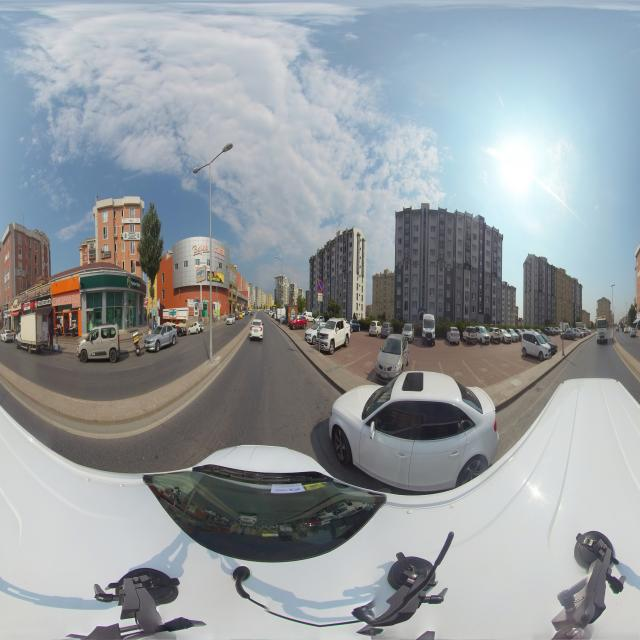SignStore: (53, 292, 79, 304), (127, 276, 142, 291), (35, 296, 51, 309), (123, 232, 137, 240), (101, 251, 111, 258), (24, 301, 30, 311), (8, 309, 12, 316), (4, 310, 8, 317), (14, 303, 18, 309), (4, 305, 8, 310)
